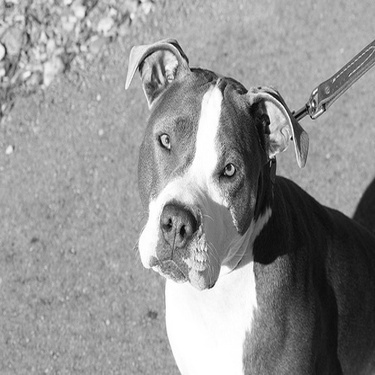dog: (120, 34, 370, 371)
